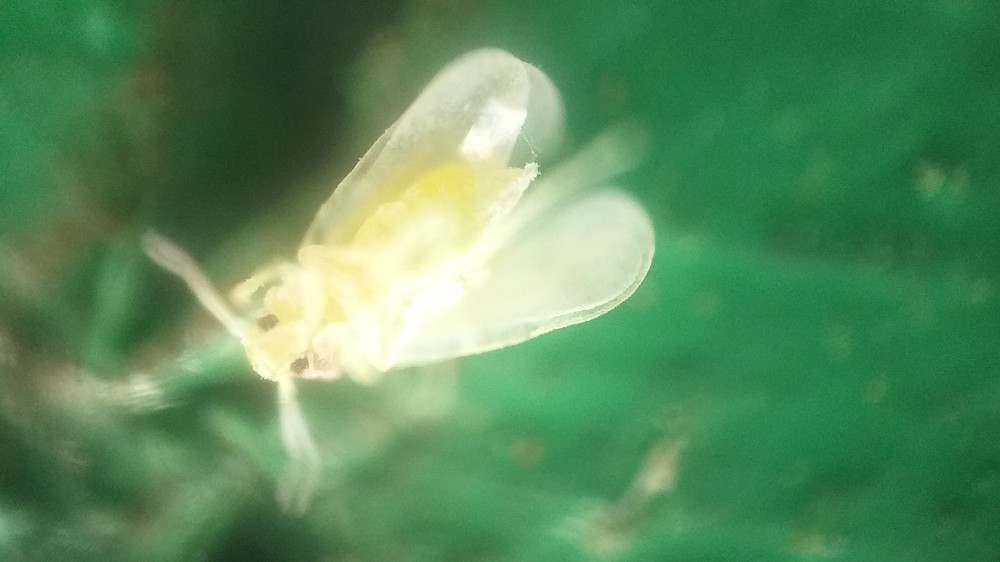Mosca Blanca: (137, 40, 684, 492)
